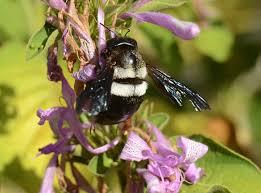Xylocopa: (73, 23, 206, 141)
